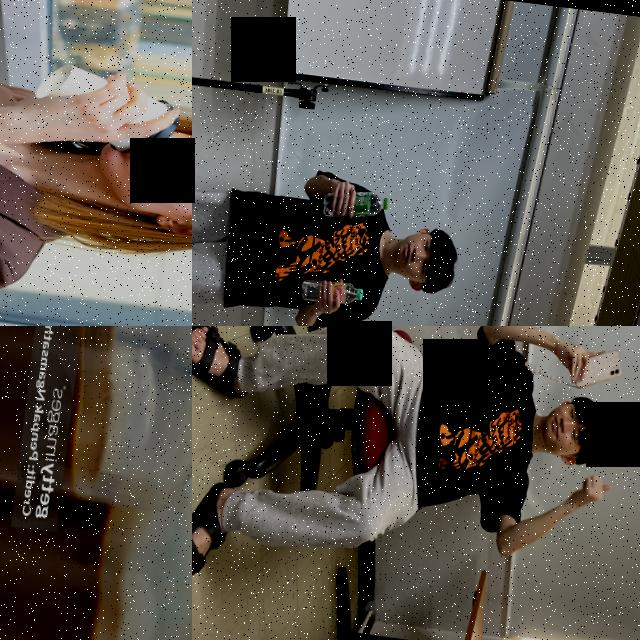bottle: (0, 326, 192, 528), (0, 465, 192, 640), (320, 184, 388, 224), (299, 276, 363, 307)
cup: (26, 59, 181, 158)
